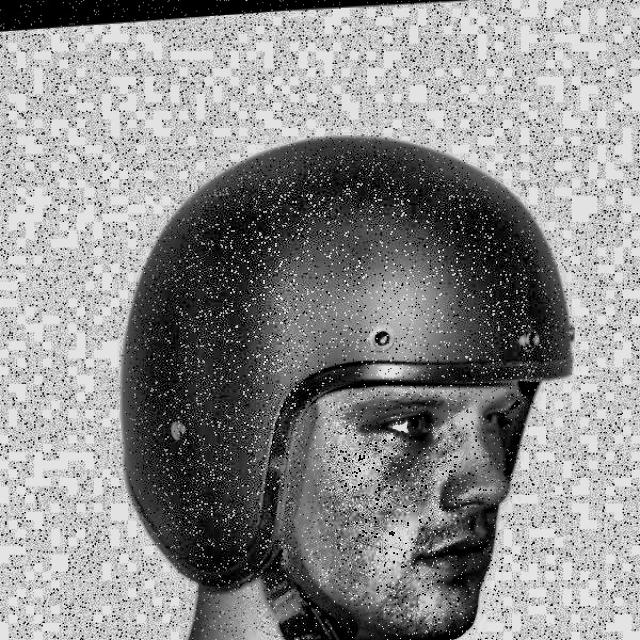Helmet: (107, 99, 586, 640)
